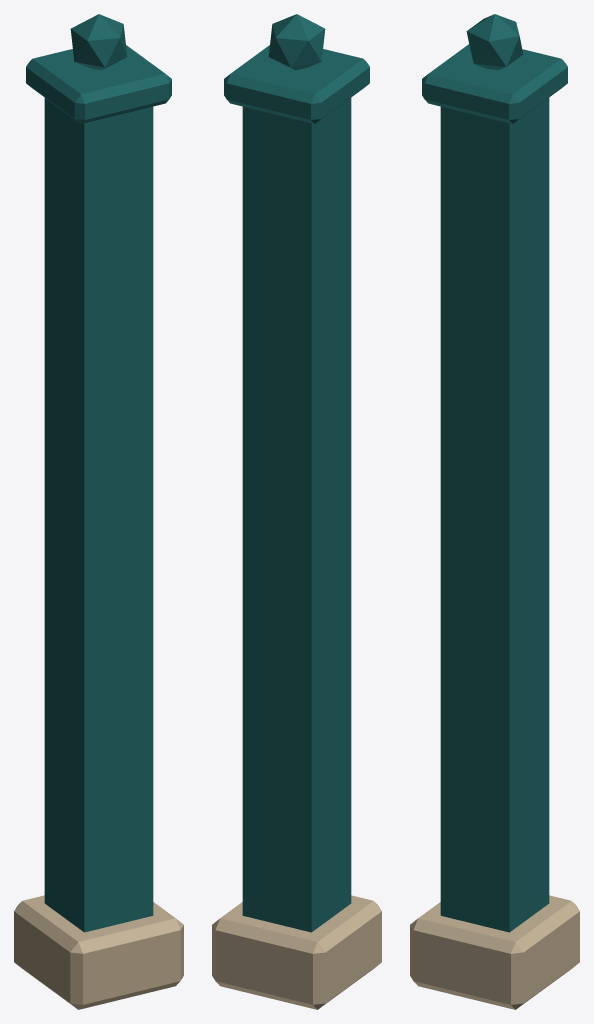
File: railing_post.glb
3 views of the same model, side by side, from view 1: azimuth 30°, elevation 25°; view 2: azimuth 150°, elevation 25°; view 3: azimuth 330°, elevation 25° (orthographic).
Visible parts, largest first — view 1: body; view 2: body; view 3: body.
Boxes of the visible parts, <box> form: body: <box>14,14,183,1009</box>; body: <box>212,14,381,1009</box>; body: <box>410,14,579,1009</box>.
Size of the model in its own units: 0.14 by 1.13 by 0.14.
